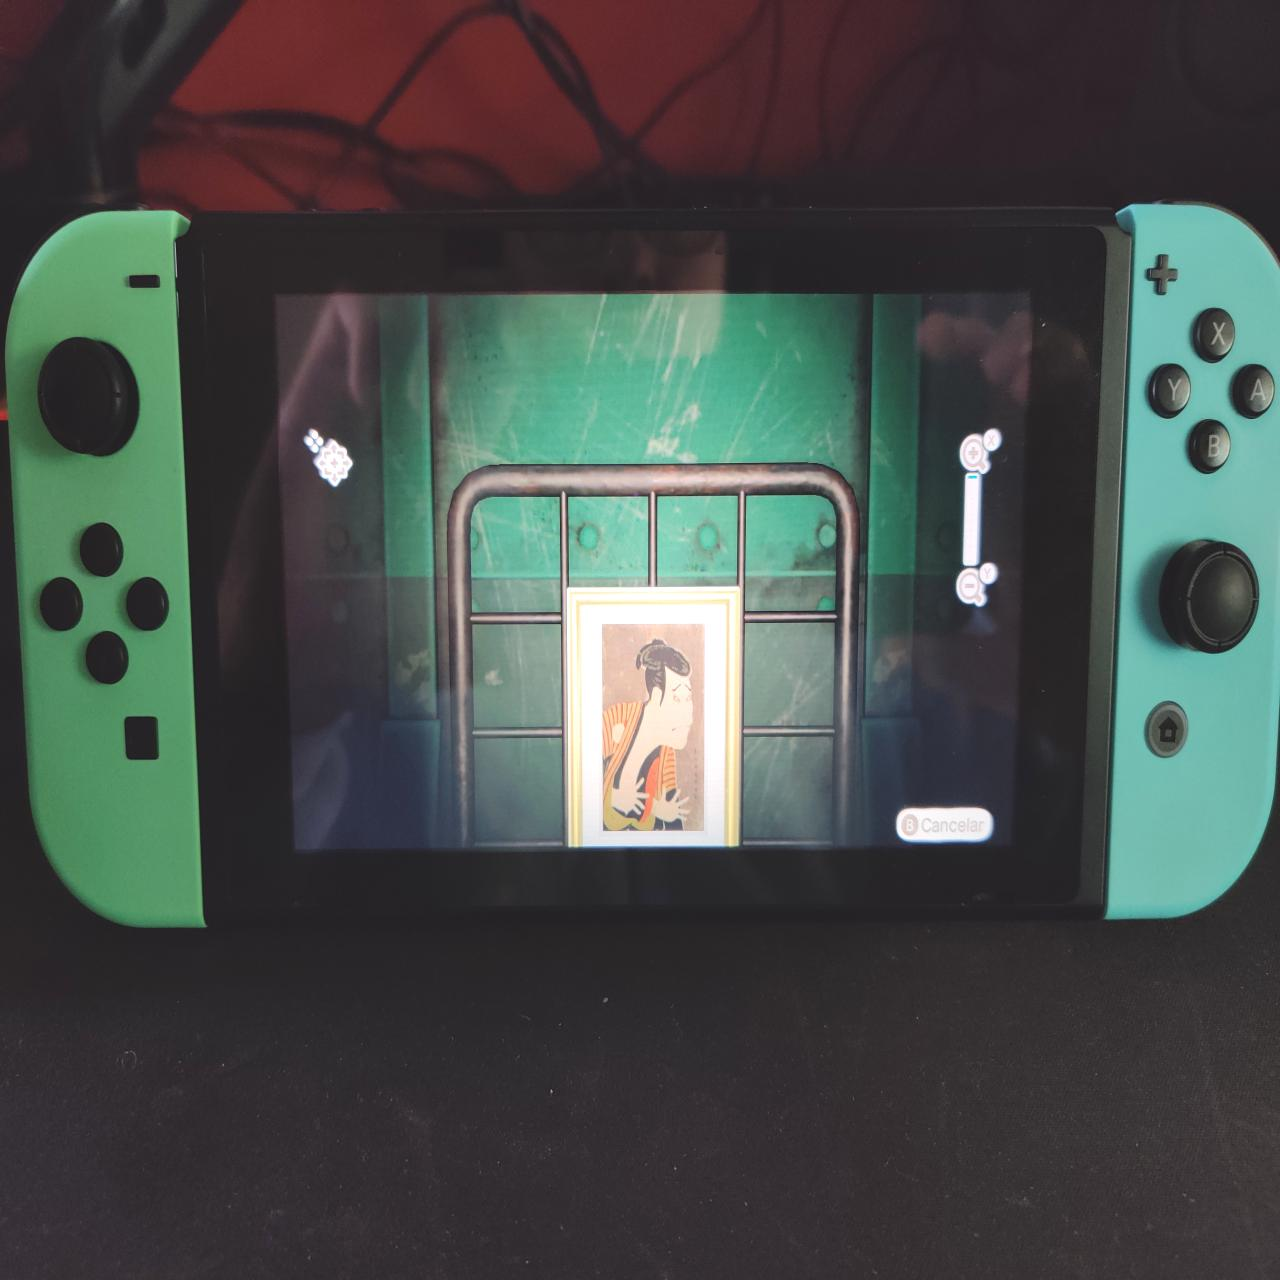OotaniOnijiFake: (605, 625, 704, 833)
